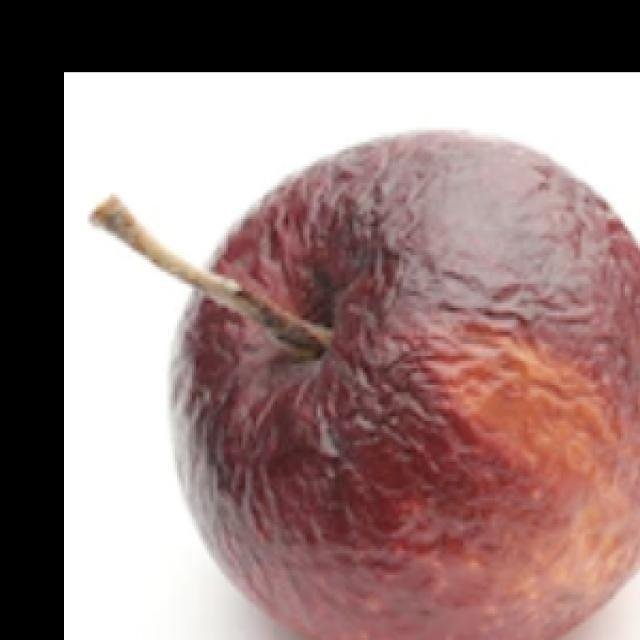Rotten: (165, 136, 640, 640)
